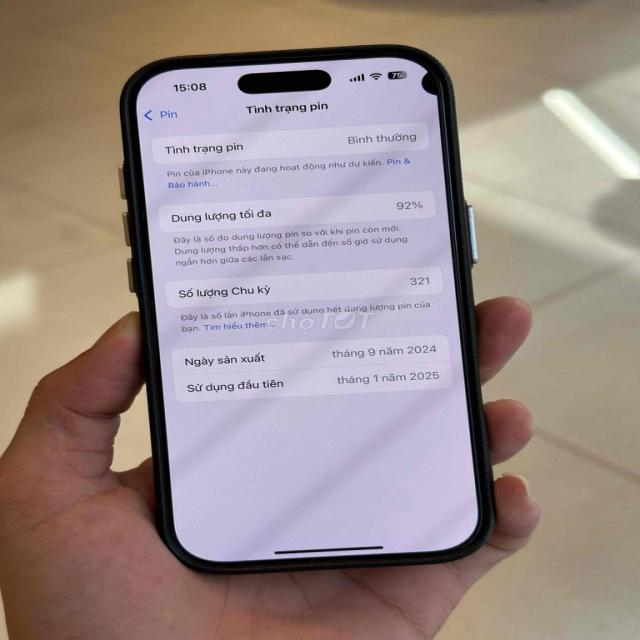gen_15: (112, 42, 496, 580)
screen_defect: (400, 59, 456, 108)
